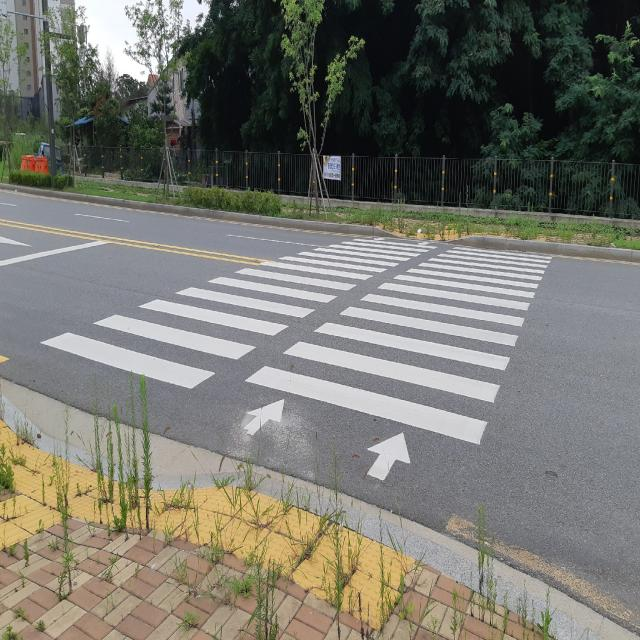횡단보도: (41, 233, 552, 482)
